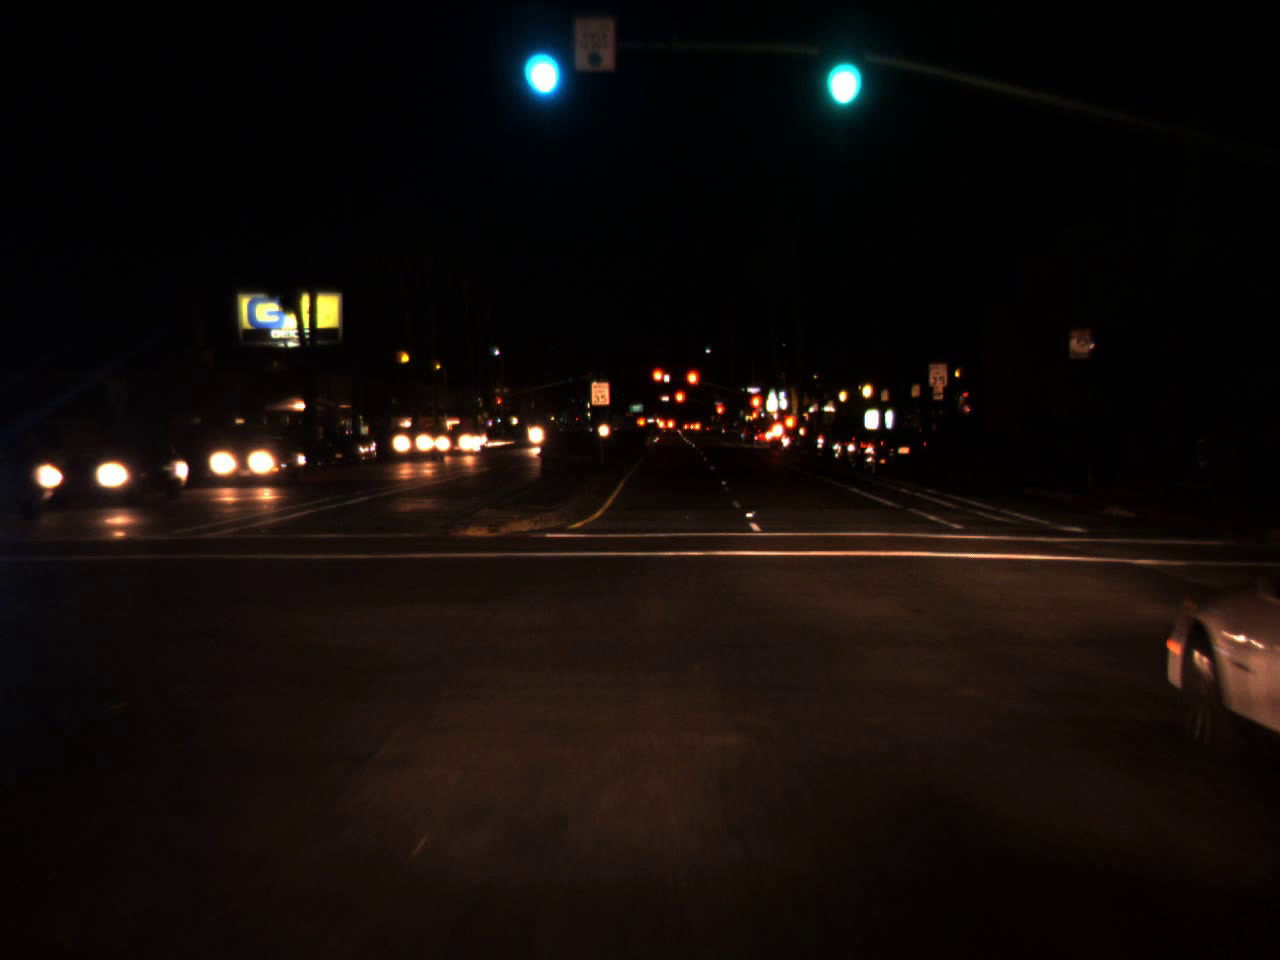go: (818, 28, 863, 115), (520, 22, 563, 106)
stop: (747, 393, 765, 425), (684, 367, 700, 402), (651, 367, 666, 394), (672, 389, 687, 416), (715, 401, 725, 428), (497, 396, 503, 412)
